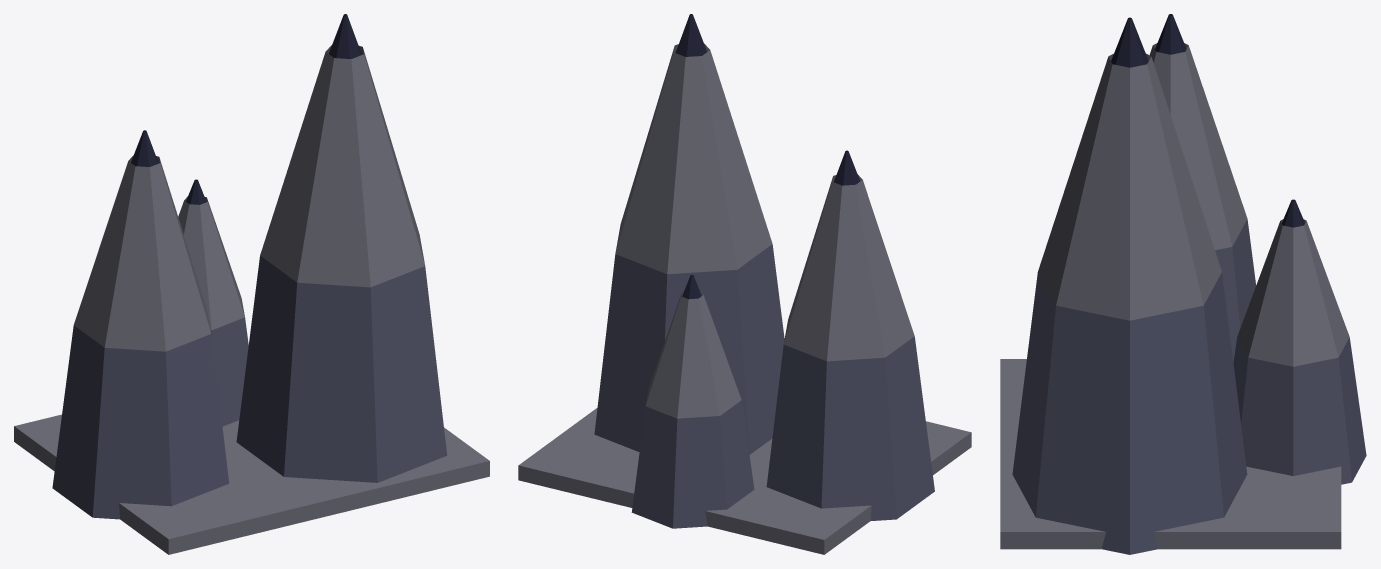
Rendered from moonfall_rock_spires.obj.
3 views of the same model, side by side, from view 1: azimuth 30°, elevation 25°; view 2: azimuth 150°, elevation 25°; view 3: azimuth 270°, elevation 25° (orthographic). The views are drawn at different scales.
Parts seen in each view (by area): view 1: moonfall_rock_spires; view 2: moonfall_rock_spires; view 3: moonfall_rock_spires.
Part boxes in pixels (left/top/right/bottom): moonfall_rock_spires: left=14, top=14, right=489, bottom=554; moonfall_rock_spires: left=518, top=14, right=971, bottom=554; moonfall_rock_spires: left=1000, top=14, right=1366, bottom=554.
Bounding box in the file's own units: 6.55 × 7.85 × 5.37.
